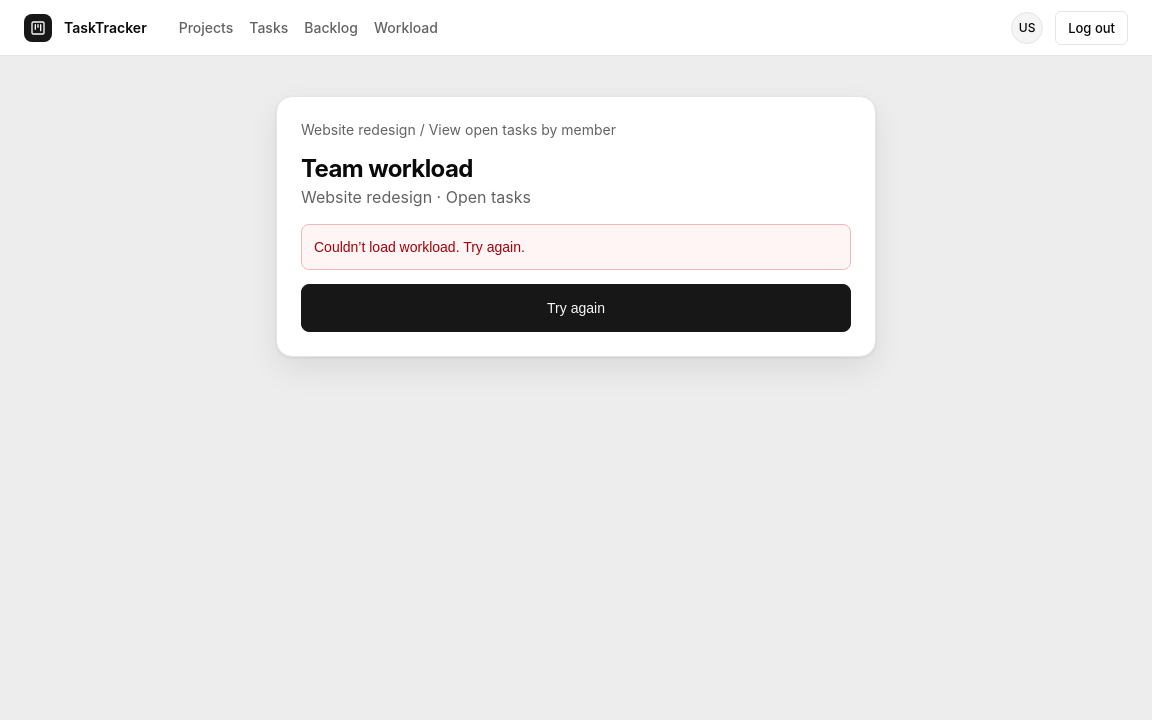
it: [US-29] View Open Tasks by Member (T1WOR-168) › displays error box on failure and allows retry (State 06)
The width and height of the screenshot is (1152, 720).
Expected: the message with test id "workload-error-box" reads "Couldn’t load workload. Try again.", [314,239,525,255]
// Click retry
Click the button with test id "workload-retry-btn": [576, 308] box [301,284,851,332]
(page scrolled)
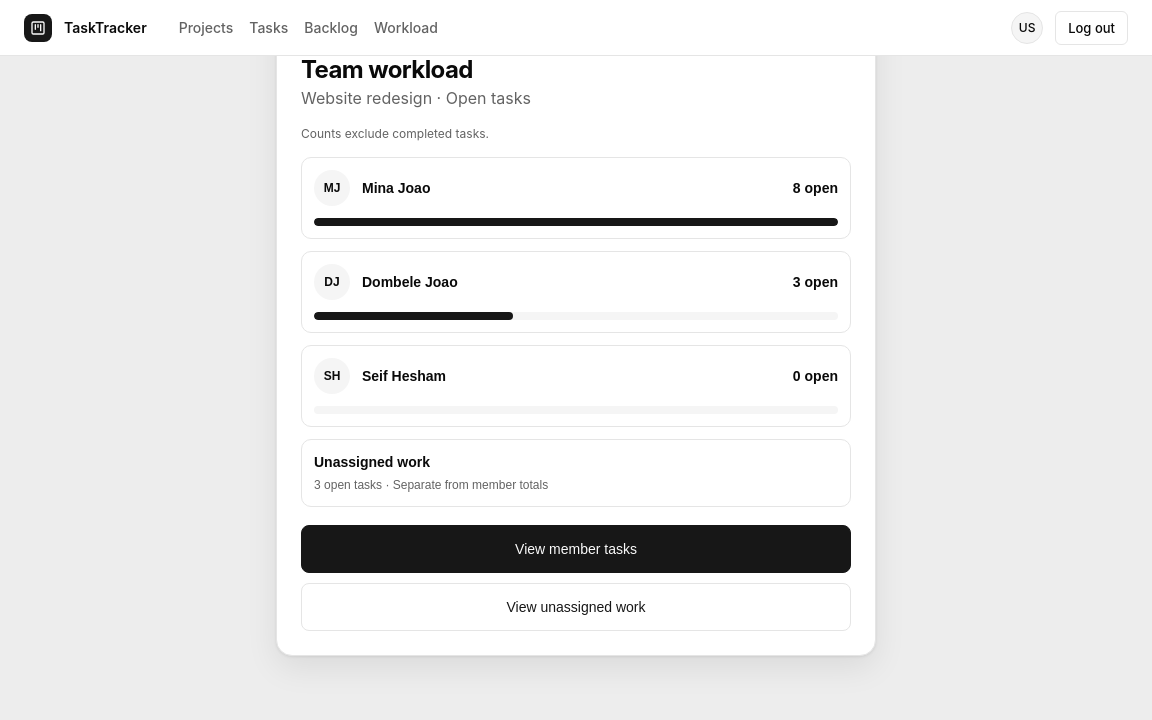
Expected: the element with test id "workload-comparison-list" is shown, [301,157,851,631]
